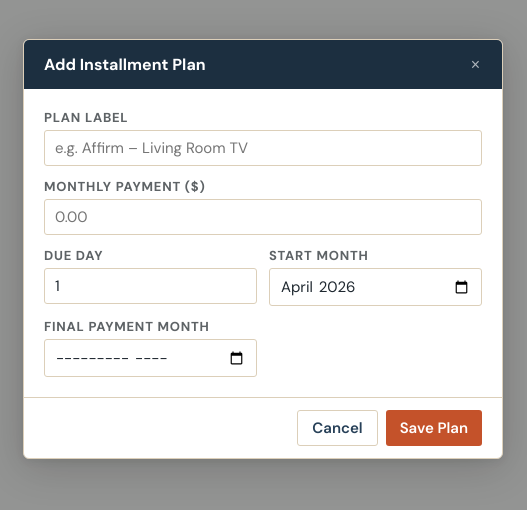
Test case: AffirmForm — validation › shows error when end month is before start month
Type "Plan" into the field labelled "Plan Label". click: (263, 148)
box: top-left (44, 130), bottom-right (482, 166)
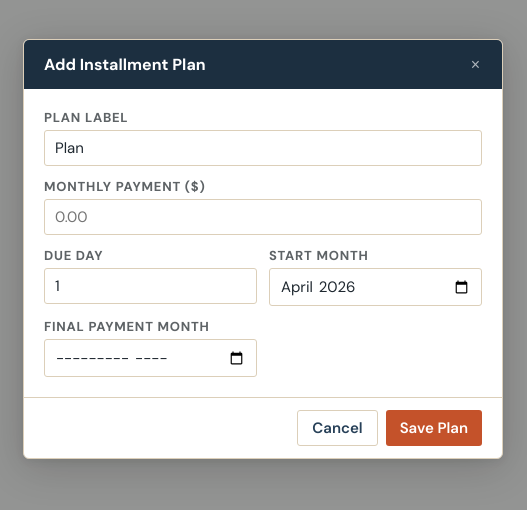
Type "50" into the field labelled "Monthly Payment ($)". click: (263, 217)
box: top-left (44, 199), bottom-right (482, 235)
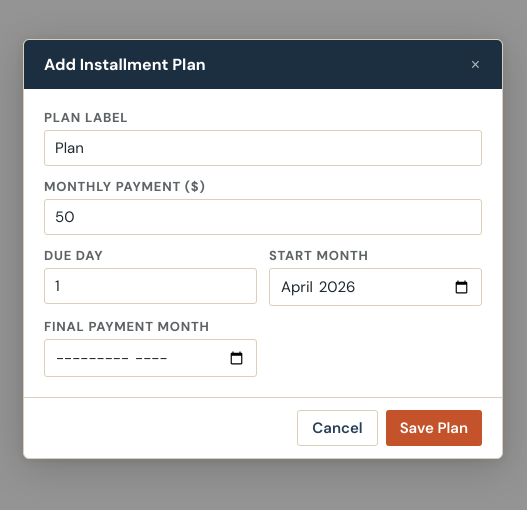
Type "2025-12" into the field labelled "Final Payment Month". click: (150, 358)
box: top-left (44, 339), bottom-right (257, 377)
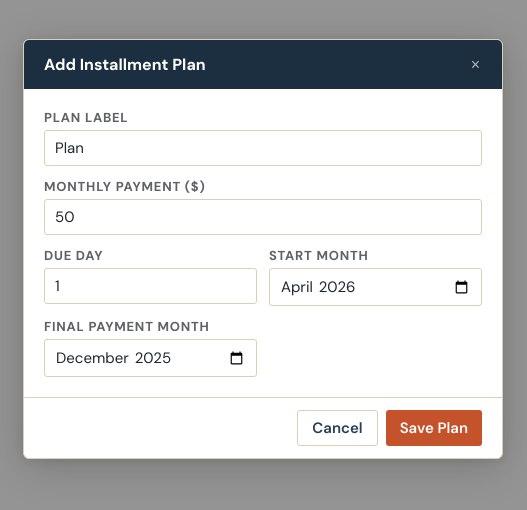
Click the button "Save Plan". click: (434, 428)
box: top-left (386, 410), bottom-right (482, 446)
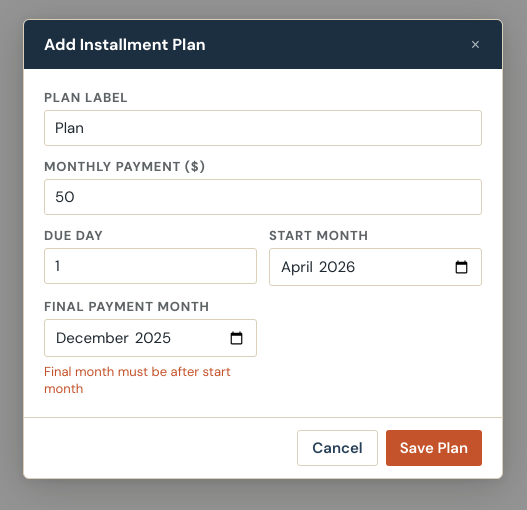
Now the text "Final month must be after start month" is shown, box top-left (44, 363), bottom-right (257, 397)
